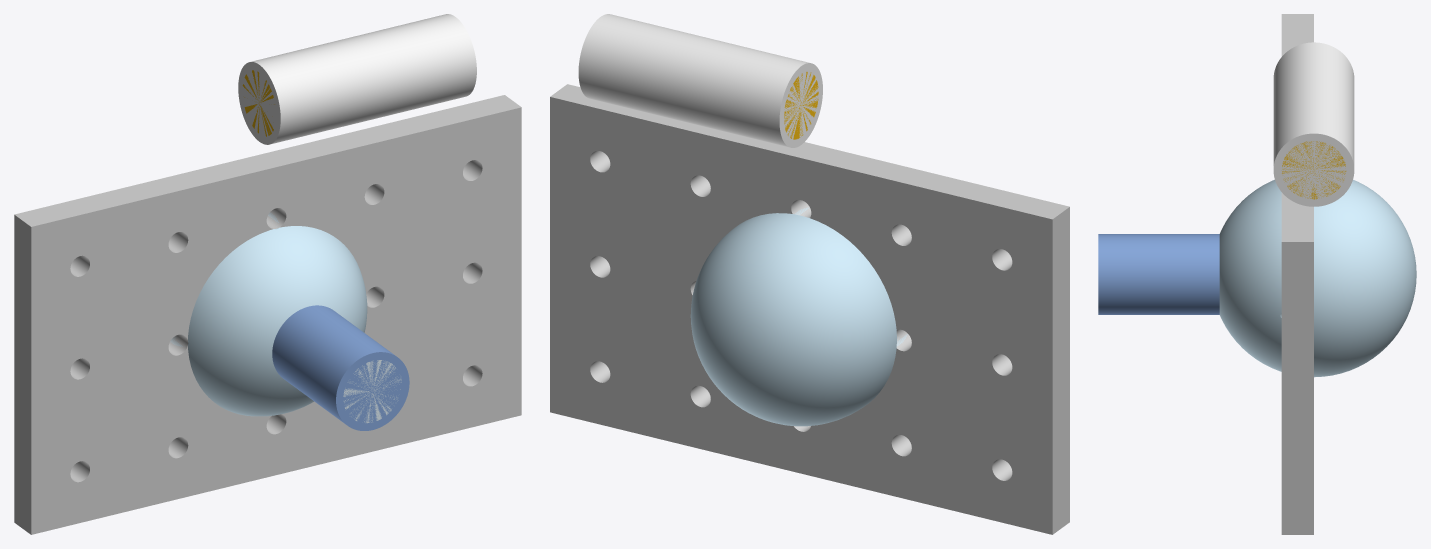
3 views of the same model, side by side, from view 1: azimuth 30°, elevation 25°; view 2: azimuth 150°, elevation 25°; view 3: azimuth 270°, elevation 25° (orthographic). The views are drawn at different scales.
Visible parts, largest first — view 1: Part 2, Part 1, Part 4, Part 3, Part 5, Part 6; view 2: Part 2, Part 1, Part 4, Part 6; view 3: Part 1, Part 4, Part 2, Part 3, Part 6.
Part boxes in pixels (left/top/right/bottom): Part 2: left=14, top=95, right=521, bottom=534; Part 1: left=170, top=212, right=367, bottom=416; Part 4: left=238, top=14, right=476, bottom=144; Part 3: left=272, top=305, right=409, bottom=430; Part 5: left=343, top=360, right=401, bottom=423; Part 6: left=242, top=70, right=274, bottom=136; Part 2: left=550, top=84, right=1069, bottom=534; Part 1: left=690, top=207, right=907, bottom=426; Part 4: left=578, top=14, right=822, bottom=147; Part 6: left=784, top=72, right=818, bottom=139; Part 1: left=1219, top=179, right=1416, bottom=377; Part 4: left=1273, top=42, right=1354, bottom=206; Part 2: left=1281, top=14, right=1313, bottom=534; Part 3: left=1098, top=234, right=1219, bottom=314; Part 6: left=1282, top=141, right=1346, bottom=199.
Bounding box in the file's own units: 0.2 × 0.155 × 0.1181.
